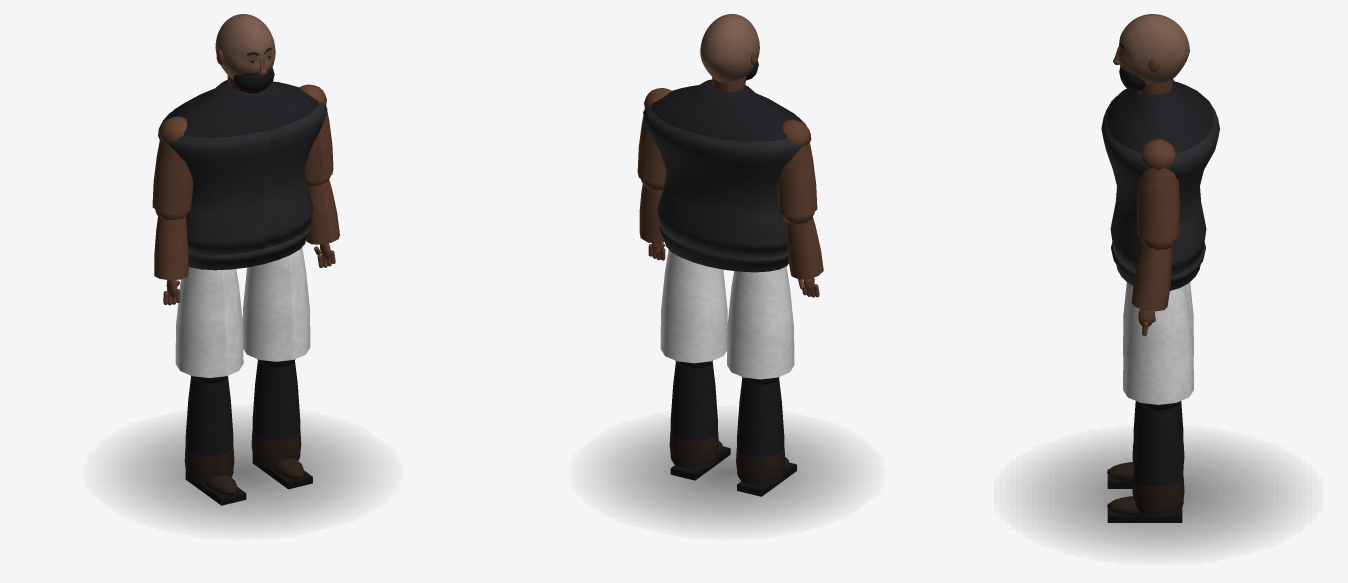
File: npc_knuckles.glb
The picture shows the model from 3 angles, left to right: view 1: azimuth 30°, elevation 25°; view 2: azimuth 150°, elevation 25°; view 3: azimuth 270°, elevation 25°; orthographic projection. The views are drawn at different scales.
Parts seen in each view (by area): view 1: chest, object 11, legL, legR, shinL, shinR, head, armL, foreL, foreR, armR; view 2: chest, object 11, legL, legR, shinR, shinL, head, armL, foreL, foreR, armR; view 3: object 11, chest, legR, shinR, head, armR, foreR, shinL, legL.
Boxes of the visible parts, x1,y1,x2,y2 form: chest: (158, 75, 327, 270); object 11: (114, 418, 371, 526); legL: (175, 267, 243, 377); legR: (242, 247, 310, 361); shinL: (184, 375, 246, 505); shinR: (251, 359, 312, 489); head: (215, 14, 275, 93); armL: (152, 116, 193, 214); foreL: (154, 209, 188, 305); foreR: (306, 176, 339, 267); armR: (299, 84, 333, 181); chest: (643, 77, 811, 272); object 11: (600, 419, 854, 526); legL: (727, 266, 794, 379); legR: (660, 250, 727, 363); shinR: (669, 360, 730, 480); shinL: (736, 377, 796, 496); head: (700, 14, 759, 82); armL: (777, 119, 817, 216); foreL: (782, 212, 823, 297); foreR: (639, 179, 665, 260); armR: (637, 88, 671, 184); object 11: (1027, 439, 1289, 550); chest: (1101, 79, 1219, 290); legR: (1123, 285, 1193, 404); shinR: (1107, 402, 1184, 522); head: (1113, 14, 1189, 91); armR: (1136, 139, 1180, 242); foreR: (1131, 239, 1175, 336); shinL: (1107, 401, 1184, 488); legL: (1123, 282, 1193, 355).
Bounding box in the file's own units: 1.17 × 1.78 × 1.17.
5 materials, 4 textured.
